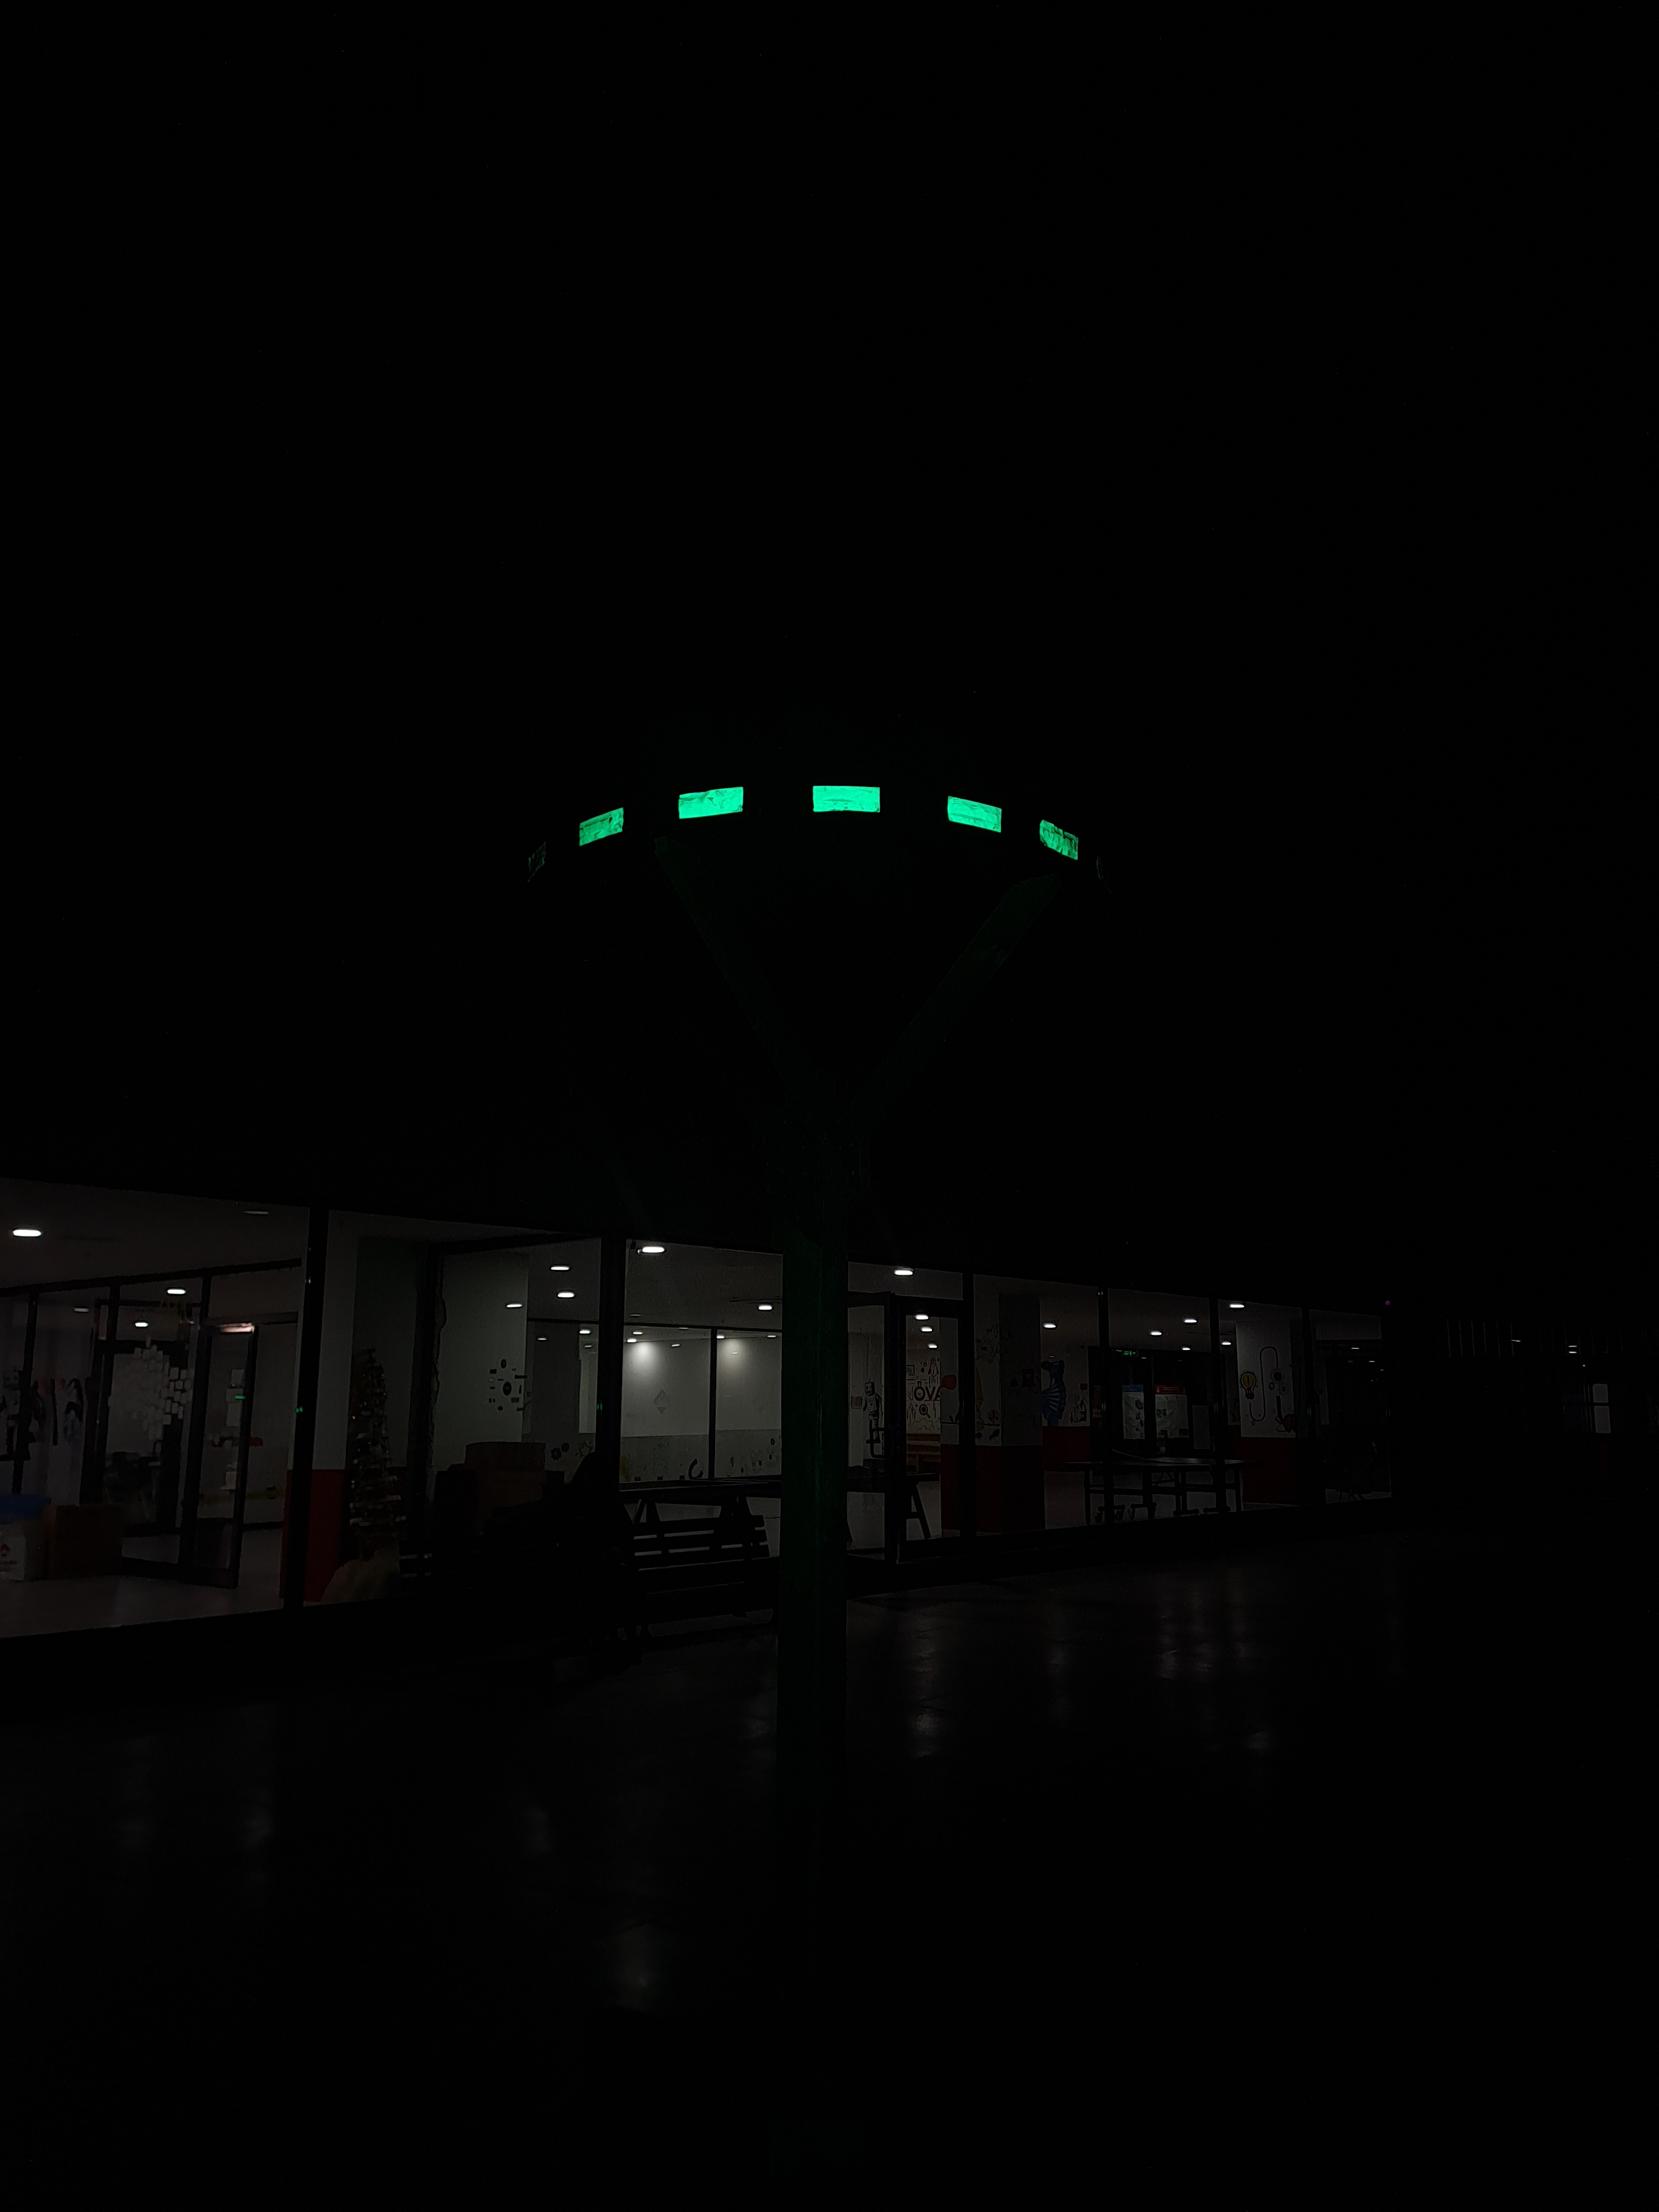hoop: (568, 780, 1082, 867)
